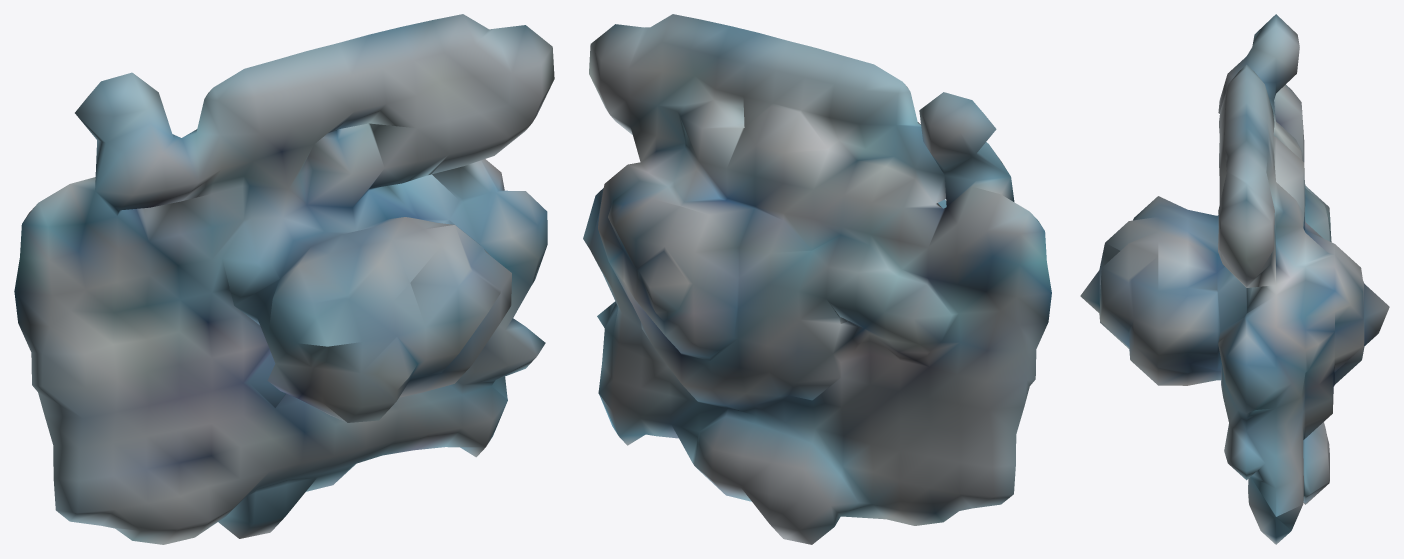
The picture shows the model from 3 angles, left to right: view 1: azimuth 30°, elevation 25°; view 2: azimuth 150°, elevation 25°; view 3: azimuth 270°, elevation 25°; orthographic projection. The views are drawn at different scales.
Visible parts, largest first — view 1: world; view 2: world; view 3: world.
Boxes of the visible parts, bbox=[...] form: world: bbox=[14, 14, 554, 544]; world: bbox=[583, 14, 1051, 544]; world: bbox=[1080, 14, 1389, 544].
Bounding box in the file's own units: 0.2811 × 0.2631 × 0.177.
